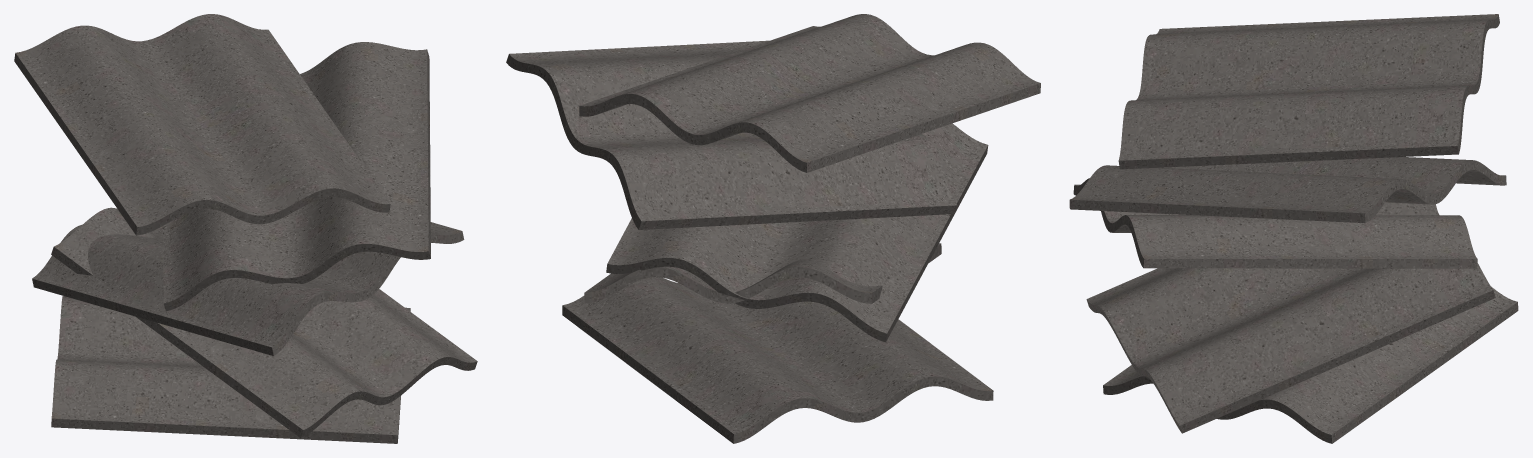
The model's file is COB-CER-005_anim.glb.
3 views of the same model, side by side, from view 1: azimuth 30°, elevation 25°; view 2: azimuth 150°, elevation 25°; view 3: azimuth 270°, elevation 25° (orthographic). The views are drawn at different scales.
Parts seen in each view (by area): view 1: COB-CER-005_anim4, COB-CER-005_anim3, COB-CER-005_anim1, COB-CER-005_anim0, COB-CER-005_anim2; view 2: COB-CER-005_anim4, COB-CER-005_anim3, COB-CER-005_anim0, COB-CER-005_anim2, COB-CER-005_anim1; view 3: COB-CER-005_anim4, COB-CER-005_anim1, COB-CER-005_anim3, COB-CER-005_anim2, COB-CER-005_anim0.
Boxes of the visible parts, <box> form: COB-CER-005_anim4: <box>14,14,390,235</box>; COB-CER-005_anim3: <box>163,42,430,311</box>; COB-CER-005_anim1: <box>51,207,477,437</box>; COB-CER-005_anim0: <box>51,296,410,443</box>; COB-CER-005_anim2: <box>32,222,464,355</box>; COB-CER-005_anim4: <box>579,14,1040,172</box>; COB-CER-005_anim3: <box>506,40,957,229</box>; COB-CER-005_anim0: <box>562,277,993,443</box>; COB-CER-005_anim2: <box>606,123,988,342</box>; COB-CER-005_anim1: <box>584,243,941,303</box>; COB-CER-005_anim4: <box>1118,14,1499,169</box>; COB-CER-005_anim1: <box>1086,202,1495,433</box>; COB-CER-005_anim3: <box>1069,157,1506,222</box>; COB-CER-005_anim2: <box>1073,178,1477,268</box>; COB-CER-005_anim0: <box>1103,286,1518,443</box>.
Size of the model in its own units: 0.5815 by 0.4125 by 0.5448.
1 material, 1 textured.
